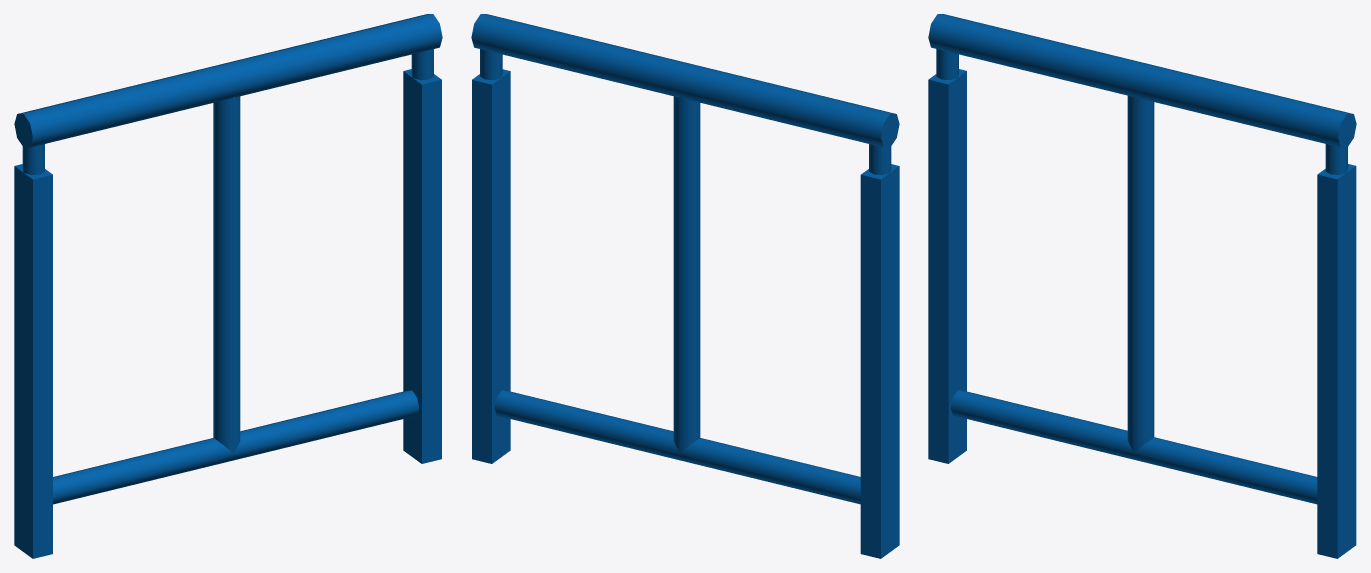
File: Guard_03_Ufa.FBX
The picture shows the model from 3 angles, left to right: view 1: azimuth 30°, elevation 25°; view 2: azimuth 150°, elevation 25°; view 3: azimuth 330°, elevation 25°; orthographic projection.
Parts seen in each view (by area): view 1: Guard_03_Ufa; view 2: Guard_03_Ufa; view 3: Guard_03_Ufa.
Boxes of the visible parts, x1=… form: Guard_03_Ufa: x1=14, y1=14, x2=442, y2=558; Guard_03_Ufa: x1=471, y1=14, x2=899, y2=558; Guard_03_Ufa: x1=928, y1=14, x2=1356, y2=558.
Bounding box in the file's own units: 1.02 × 1.04 × 0.0802.
Materials: 1 (1 with a texture image).
